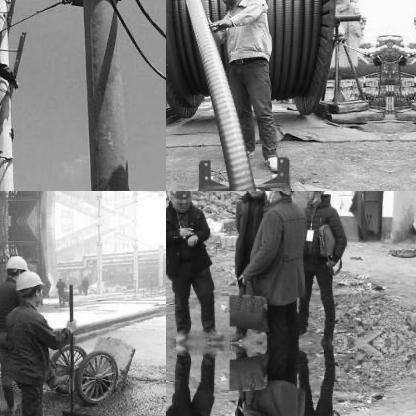Helmet: (16, 270, 43, 304), (3, 255, 27, 280), (166, 191, 191, 211), (302, 191, 325, 204), (266, 191, 296, 200), (242, 191, 266, 197)
